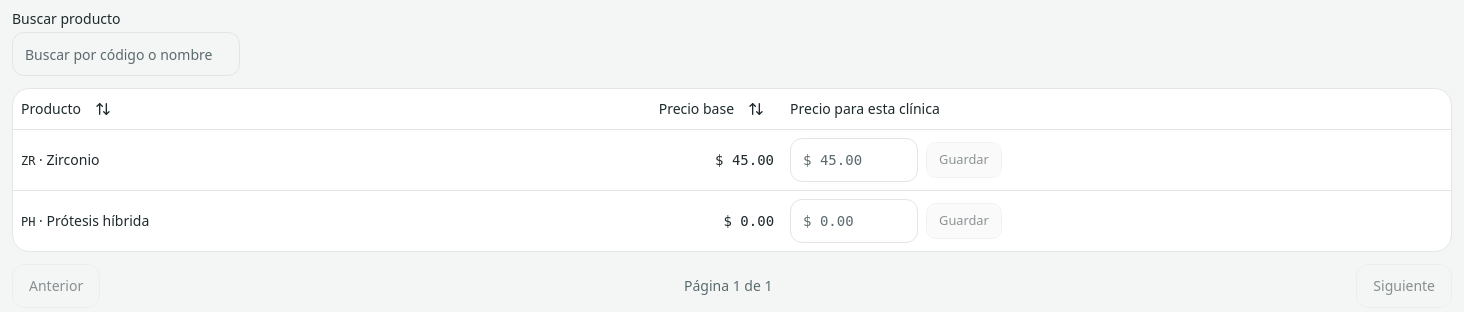
Scenario: ClinicPricesTable › con texto sin coincidencias aparece el estado vacío
expect the text "ZR · Zirconio" is shown: met, box top-left (21, 150), bottom-right (100, 168)
Type "no existe" into the search field labelled "Buscar producto". click: (126, 54)
box: top-left (12, 32), bottom-right (240, 76)
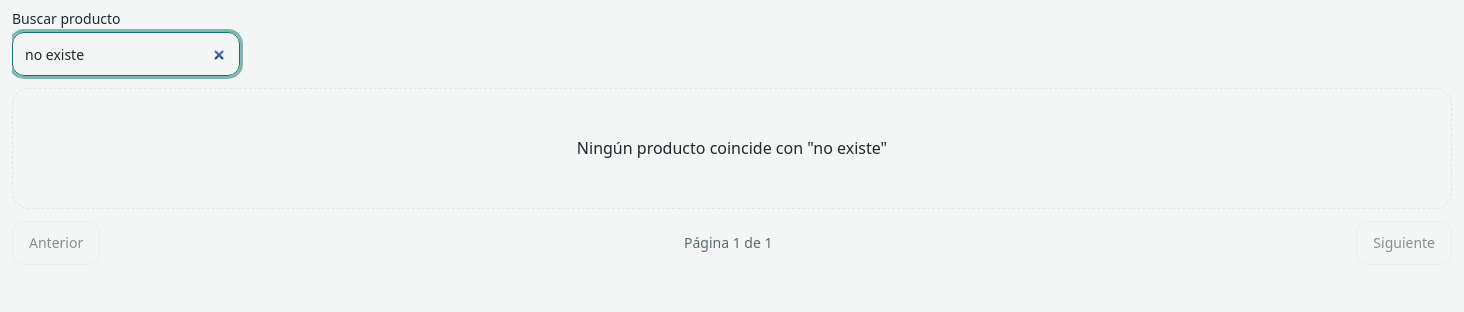
expect the text "Ningún producto coincide con \"no existe\"" is shown: met, box top-left (577, 137), bottom-right (887, 160)
